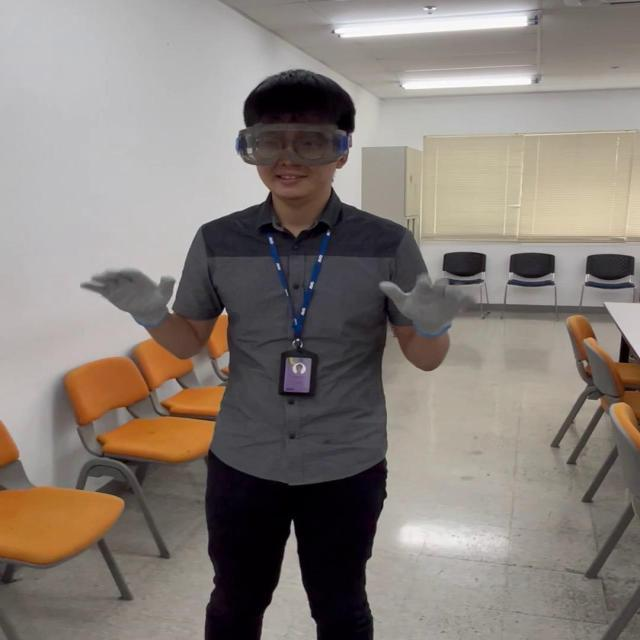gloved_hand: (87, 266, 184, 331), (379, 274, 465, 338)
